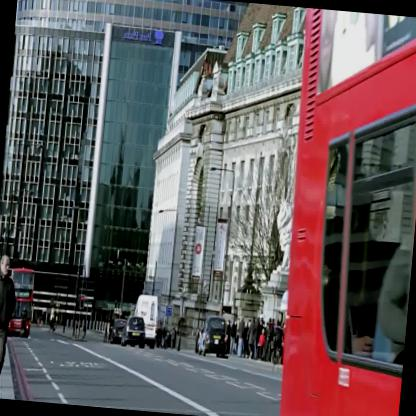bus: (5, 268, 34, 338)
car: (200, 317, 230, 356), (121, 316, 147, 349), (109, 318, 126, 344)
truck: (132, 295, 160, 350)
